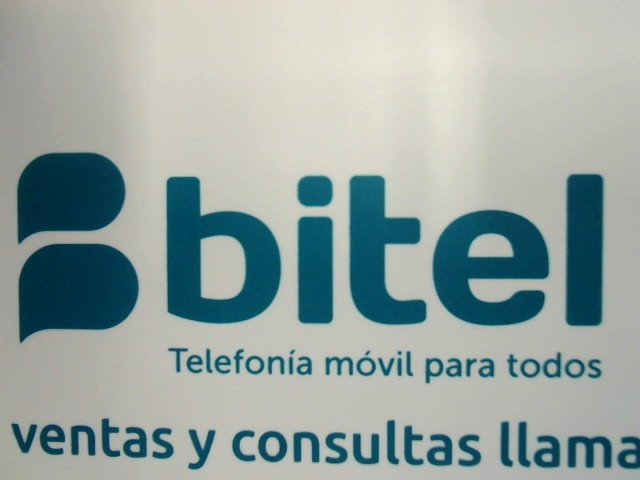BE_bitel: (10, 145, 611, 344)
